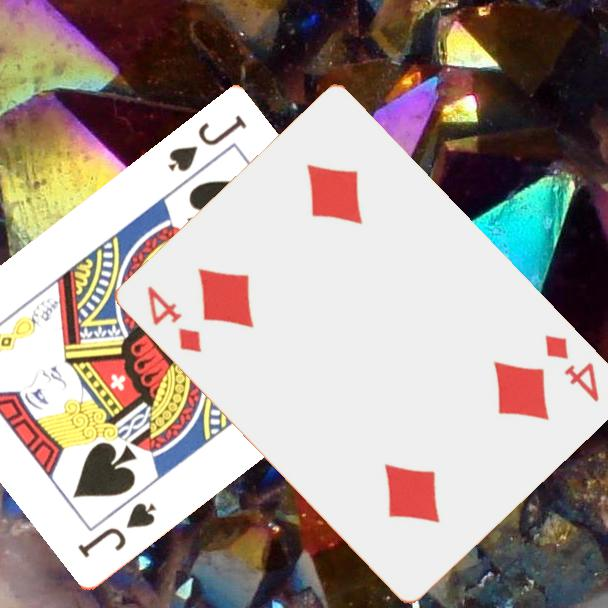d04: (541, 331, 603, 405), (144, 282, 206, 356)
s11: (164, 112, 250, 176), (73, 499, 160, 562)
